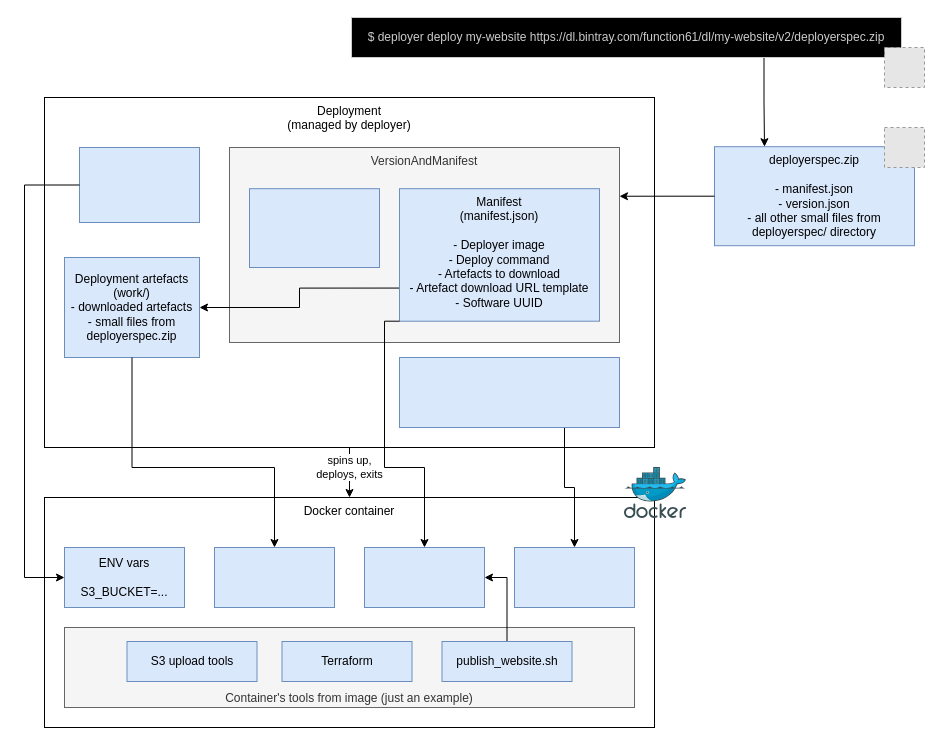
This 942x745 diagram has some shape labels left out. Grey dashed boxes stand in for pictures. Here are the shapes that lost their labels. From the top down, the centre of each, then its label:
(139,184): UserConfig - Service ID - ENV vars
(314,228): Version (version.json) - Version number ("v2")
(509,392): Persistent state across deployments (state/) - Like Terraform state etc.
(274,577): /work website.tar.gz
(424,577): Deploy command publish_website.sh
(574,577): /state terraform.tfstate
